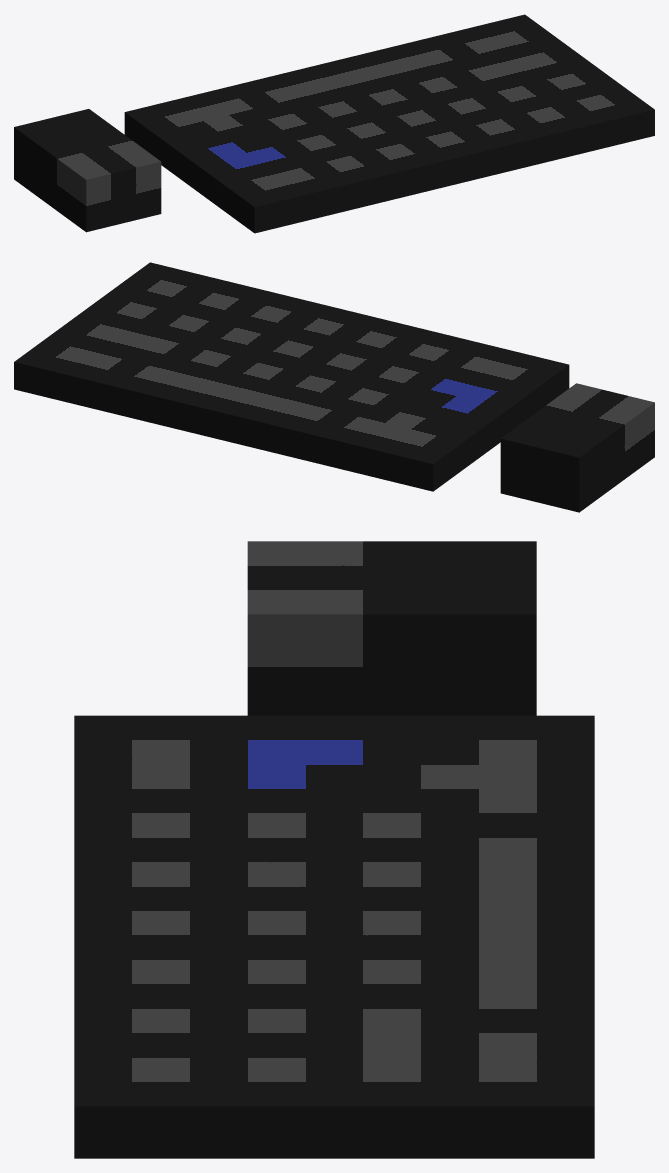
File: keyboard_mouse.obj
3 views of the same model, one above another, from view 1: azimuth 30°, elevation 25°; view 2: azimuth 150°, elevation 25°; view 3: azimuth 270°, elevation 25° (orthographic). The views are drawn at different scales.
Parts seen in each view (by area): view 1: cube; view 2: cube; view 3: cube.
Part boxes in pixels (x1,y1,x2,y2): cube: [14, 14, 654, 233]; cube: [14, 262, 654, 512]; cube: [74, 541, 594, 1158].
Bounding box in the file's own units: 1.31 × 0.125 × 0.5625.
